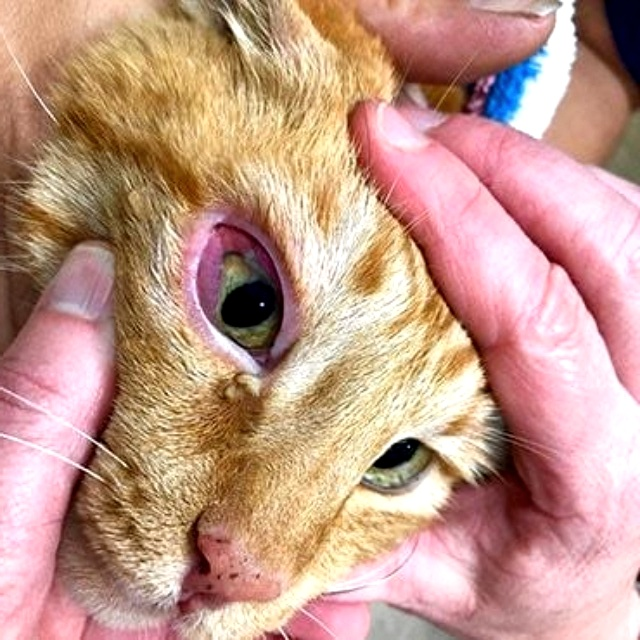eye_infection: (197, 213, 302, 367)
